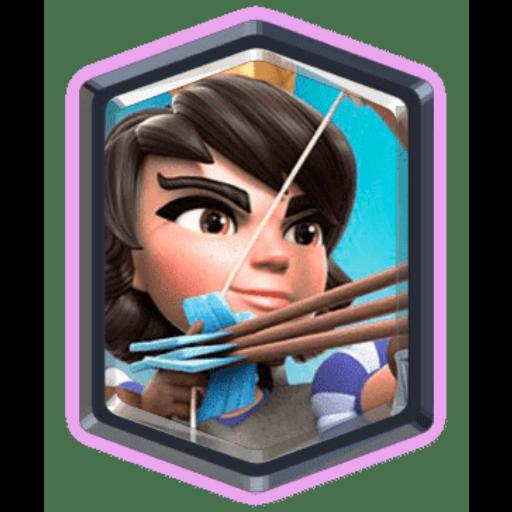princess: (100, 75, 394, 435)
